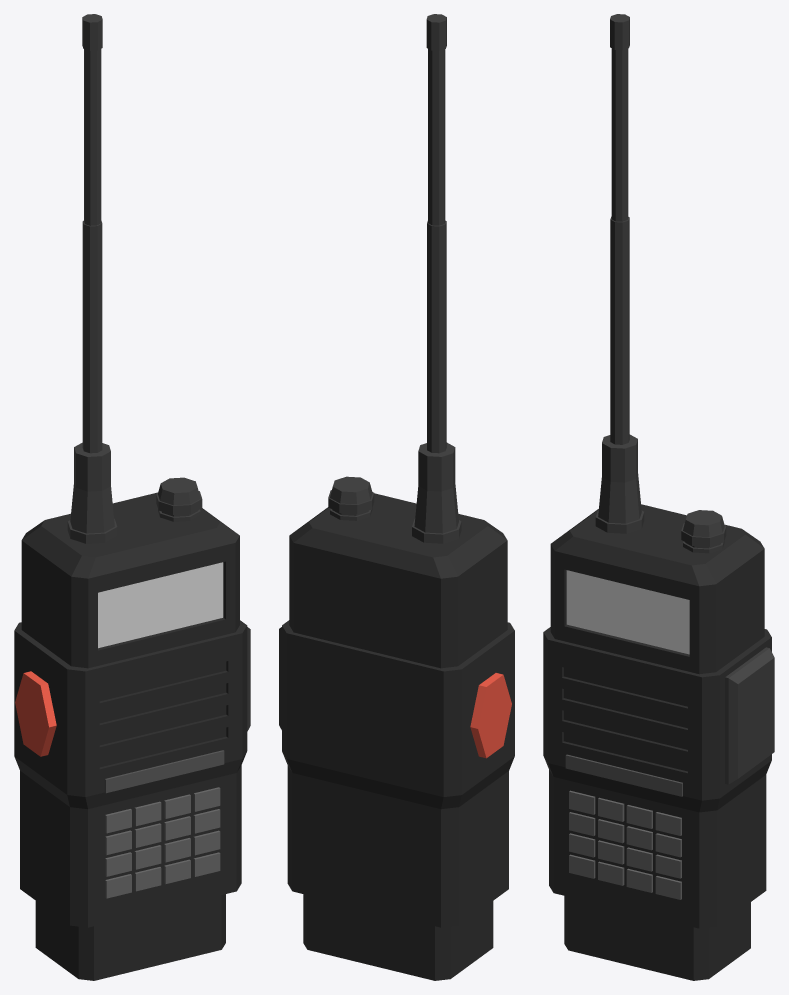
The model's file is Militar_Radio.fbx.
The picture shows the model from 3 angles, left to right: view 1: azimuth 30°, elevation 25°; view 2: azimuth 150°, elevation 25°; view 3: azimuth 330°, elevation 25°; orthographic projection.
Visible parts, largest first — view 1: Militar Radio; view 2: Militar Radio; view 3: Militar Radio.
Part boxes in pixels (<box>): Militar Radio: <box>14,14,250,980</box>; Militar Radio: <box>279,14,514,980</box>; Militar Radio: <box>543,14,774,980</box>.
Size of the model in its own units: 117 by 528 by 69.11.
Materials: 2 (1 with a texture image).
